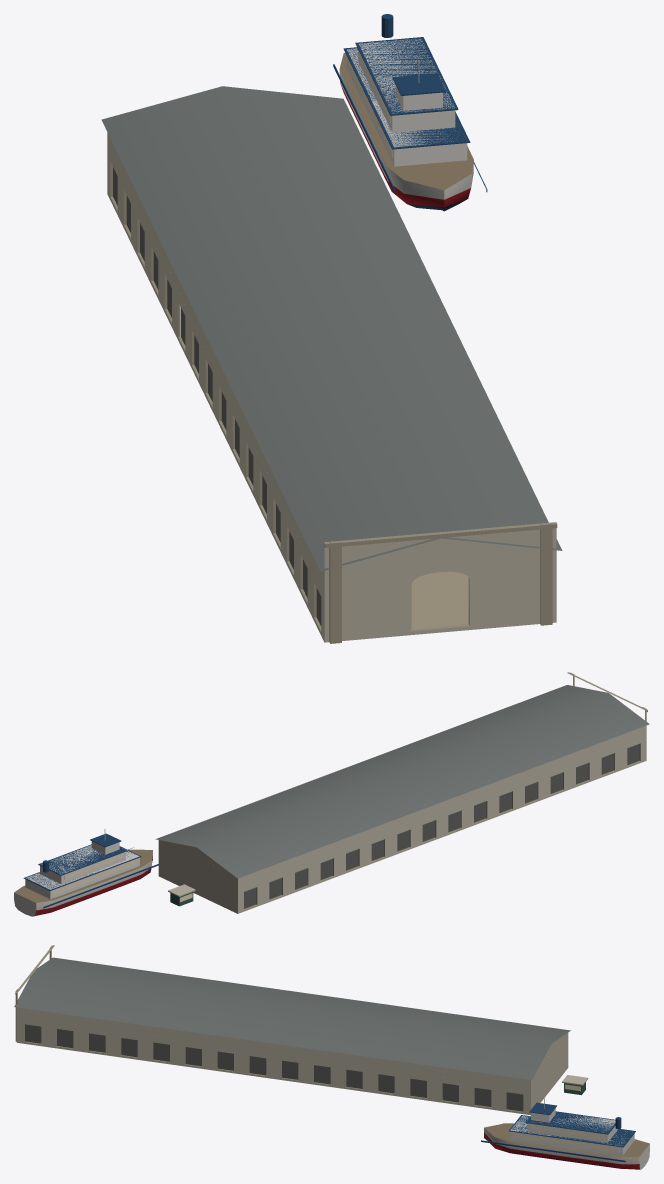
Rendered from pier33_lod1.glb.
3 views of the same model, one above another, from view 1: azimuth 30°, elevation 25°; view 2: azimuth 150°, elevation 25°; view 3: azimuth 270°, elevation 25° (orthographic). The views are drawn at different scales.
Parts seen in each view (by area): view 1: L1_roof, L1_stucco, L1_paint, L1_shop, L1_metal, L1_wood; view 2: L1_roof, L1_stucco, L1_paint, L1_metal, L1_shop, L1_wood; view 3: L1_roof, L1_stucco, L1_paint, L1_metal, L1_shop, L1_wood.
Boxes of the visible parts, left/top/right/bottom form: L1_roof: left=101, top=86, right=562, bottom=571; L1_stucco: left=107, top=132, right=557, bottom=643; L1_paint: left=333, top=14, right=487, bottom=211; L1_shop: left=347, top=52, right=468, bottom=629; L1_metal: left=113, top=60, right=419, bottom=626; L1_wood: left=339, top=53, right=473, bottom=190; L1_roof: left=155, top=685, right=649, bottom=878; L1_stucco: left=158, top=672, right=647, bottom=913; L1_paint: left=14, top=833, right=195, bottom=916; L1_metal: left=104, top=744, right=639, bottom=908; L1_shop: left=53, top=853, right=192, bottom=902; L1_wood: left=14, top=849, right=152, bottom=902; L1_roof: left=14, top=957, right=570, bottom=1079; L1_stucco: left=15, top=945, right=568, bottom=1115; L1_paint: left=481, top=1075, right=649, bottom=1169; L1_metal: left=25, top=1024, right=544, bottom=1111; L1_shop: left=513, top=1084, right=619, bottom=1152; L1_wood: left=484, top=1123, right=649, bottom=1157.
Bounding box in the file's own units: 92.5 × 16.87 × 150.
